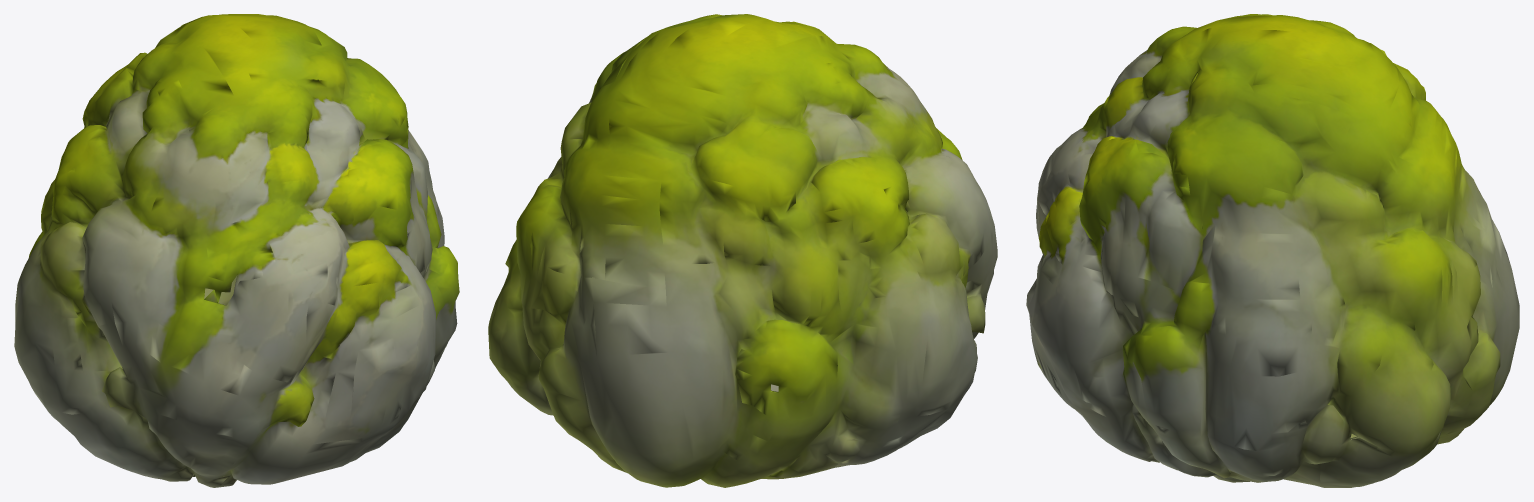
File: rock_boulder_a.glb
3 renders of one model, left to right at view 1: azimuth 30°, elevation 25°; view 2: azimuth 150°, elevation 25°; view 3: azimuth 270°, elevation 25°, orthographic. The views are drawn at different scales.
Parts seen in each view (by area): view 1: tripo_node_cb659aa4-bd19-4f0b-a3e9-024a7a14b952; view 2: tripo_node_cb659aa4-bd19-4f0b-a3e9-024a7a14b952; view 3: tripo_node_cb659aa4-bd19-4f0b-a3e9-024a7a14b952.
Part boxes in pixels (box(x1,y1,x2,y2)): tripo_node_cb659aa4-bd19-4f0b-a3e9-024a7a14b952: box(14, 14, 459, 487); tripo_node_cb659aa4-bd19-4f0b-a3e9-024a7a14b952: box(488, 14, 997, 487); tripo_node_cb659aa4-bd19-4f0b-a3e9-024a7a14b952: box(1026, 14, 1519, 487).
Bounding box in the file's own units: 0.9812 × 0.9005 × 0.9812.
Materials: 1 (1 with a texture image).
